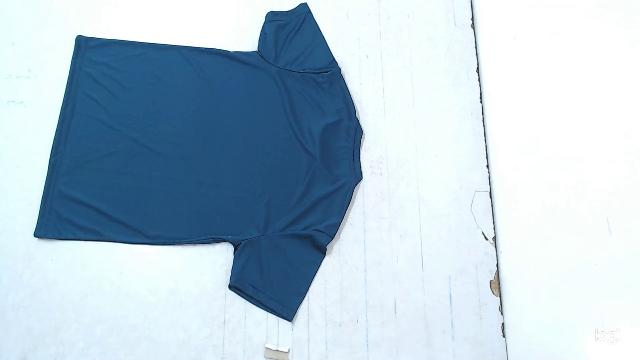new-garment: (34, 3, 362, 321)
